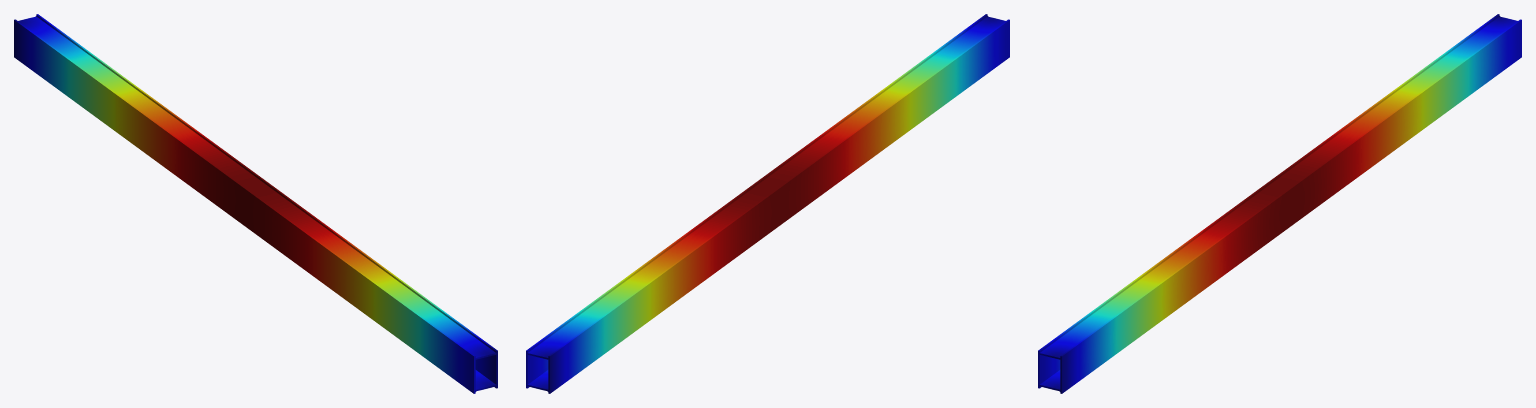
File: displacement_norm.gltf
3 views of the same model, side by side, from view 1: azimuth 30°, elevation 25°; view 2: azimuth 150°, elevation 25°; view 3: azimuth 330°, elevation 25° (orthographic).
Visible parts, largest first — view 1: Renderer Node; view 2: Renderer Node; view 3: Renderer Node.
Boxes of the visible parts, x1,y1,x2,y2 form: Renderer Node: (14,14,497,393); Renderer Node: (526,14,1009,393); Renderer Node: (1038,14,1521,393).
Size of the model in its own units: 0.03 by 0.045 by 1.
1 material, 1 textured.
